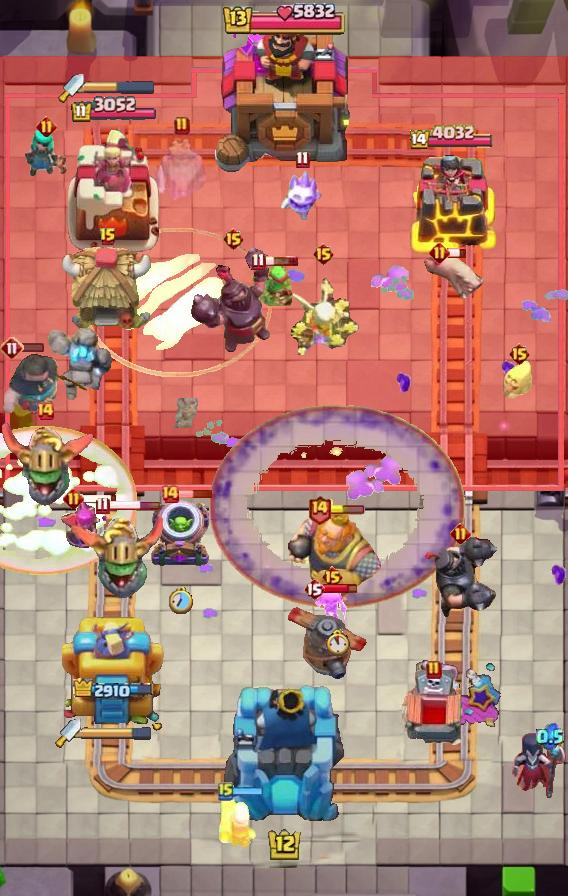bar: (64, 124, 164, 256), (62, 611, 166, 731)
bat-evolution: (502, 356, 536, 400)
clock: (221, 0, 347, 40)
dark-prince: (283, 594, 373, 680)
electro-spirit: (536, 723, 564, 751)
elixir: (324, 629, 351, 657), (169, 587, 193, 614)
elixir-golem-mid: (399, 668, 469, 754)
emote: (107, 500, 161, 511), (323, 581, 358, 595), (263, 255, 299, 267), (81, 493, 118, 504), (9, 343, 45, 354), (231, 787, 265, 798), (329, 505, 365, 515), (178, 489, 213, 499), (447, 247, 467, 259)
evolution-symbol: (59, 501, 113, 556)
fisherman: (168, 398, 200, 428)
giant: (421, 249, 487, 303)
giant-skeleton: (280, 507, 388, 611)
giant-snowball: (246, 262, 292, 306)
goblin: (314, 585, 350, 625)
goblin-cage: (149, 499, 213, 569)
ice-wizard: (83, 228, 272, 377)
king-tower: (211, 7, 357, 181), (221, 682, 347, 826)
king-tower-bar: (84, 80, 156, 94), (81, 726, 153, 740)
mirror: (280, 168, 324, 222)
mortar-evolution: (154, 136, 210, 202)
night-witch: (66, 508, 164, 600), (0, 420, 96, 508)
phoenix-big: (0, 426, 138, 575)
poison: (282, 269, 364, 355)
prince: (61, 245, 155, 335)
queen-tower: (408, 154, 498, 256)
rascal-boy: (510, 731, 568, 801)
rocket: (209, 405, 465, 609)
royal-guardian: (187, 242, 279, 356), (419, 537, 501, 621)
royal-hog: (0, 352, 92, 420)
selected: (70, 96, 158, 124), (410, 124, 496, 152), (73, 678, 155, 702)
text: (307, 494, 332, 525), (0, 336, 24, 360), (223, 227, 246, 251), (313, 242, 336, 266), (509, 342, 532, 366), (320, 565, 343, 589), (303, 577, 325, 601), (36, 115, 57, 137), (430, 241, 451, 263), (449, 523, 470, 545), (64, 488, 85, 509), (35, 401, 55, 421), (160, 484, 180, 504), (99, 227, 117, 247), (174, 116, 190, 136), (426, 660, 442, 680), (218, 781, 234, 801), (250, 253, 265, 272), (94, 497, 109, 515), (295, 150, 309, 169)
tombstone: (217, 792, 259, 850)
valkyrie-evolution: (44, 325, 118, 407)
witch: (22, 127, 70, 177)
